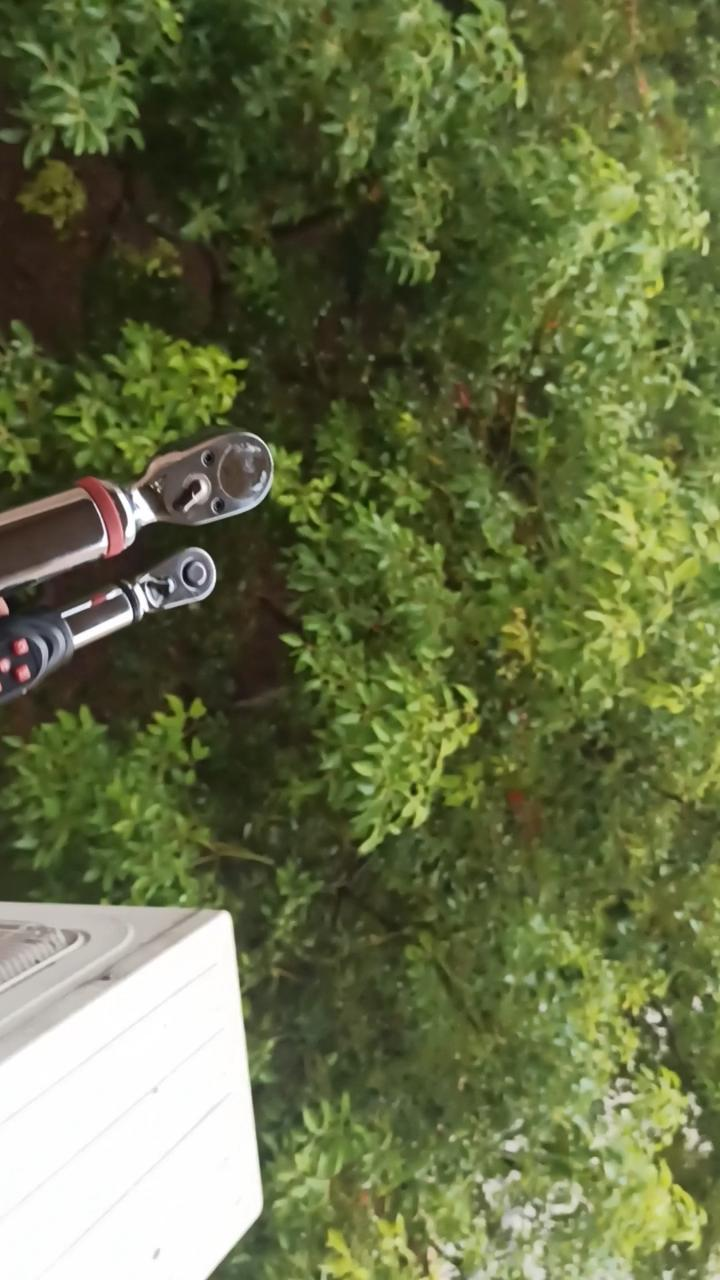Tool: (114, 433, 278, 543), (124, 546, 220, 628)
